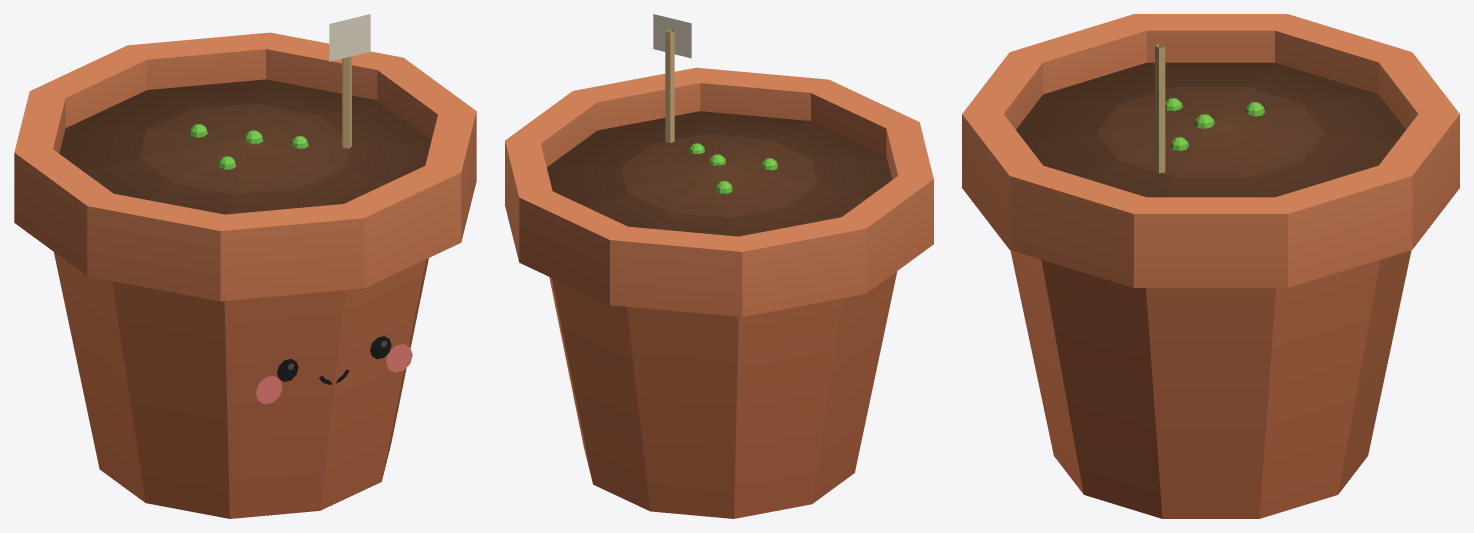
The model's file is cute_pea_stage1.glb.
3 views of the same model, side by side, from view 1: azimuth 30°, elevation 25°; view 2: azimuth 150°, elevation 25°; view 3: azimuth 270°, elevation 25° (orthographic). The views are drawn at different scales.
Parts seen in each view (by area): view 1: PeaPlant; view 2: PeaPlant; view 3: PeaPlant.
Boxes of the visible parts, x1,y1,x2,y2 form: PeaPlant: [14, 14, 476, 518]; PeaPlant: [505, 14, 933, 518]; PeaPlant: [962, 14, 1459, 518].
Size of the model in its own units: 0.3766 by 0.405 by 0.396.
